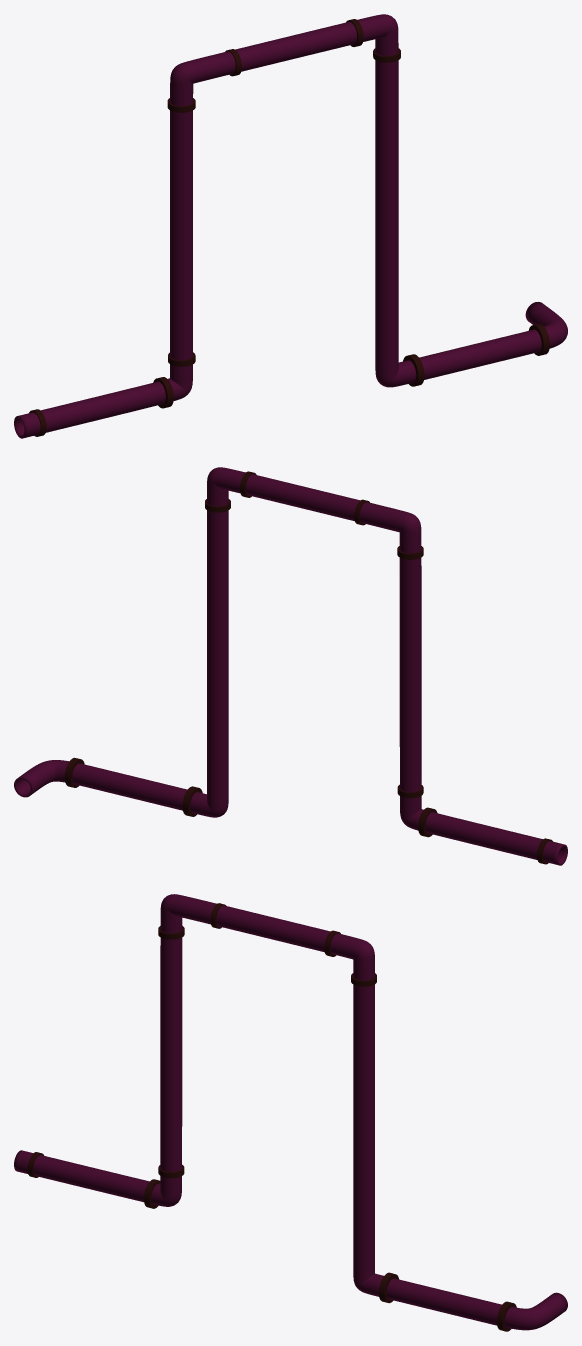
File: パイプ２.fbx
The picture shows the model from 3 angles, top to bottom: view 1: azimuth 30°, elevation 25°; view 2: azimuth 150°, elevation 25°; view 3: azimuth 330°, elevation 25°; orthographic projection. The views are drawn at different scales.
Visible parts, largest first — view 1: NURBSパス.003; view 2: NURBSパス.003; view 3: NURBSパス.003.
Part boxes in pixels (<box>): NURBSパス.003: <box>14,14,567,438</box>; NURBSパス.003: <box>14,467,567,865</box>; NURBSパス.003: <box>14,894,567,1330</box>.
Bounding box in the file's own units: 13.19 × 8.61 × 1.53.
